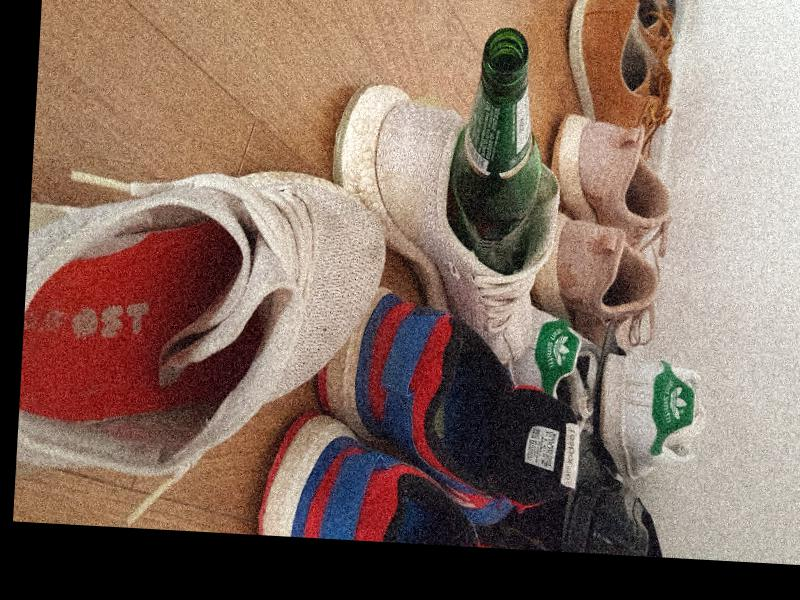Beer: (444, 25, 546, 275)
